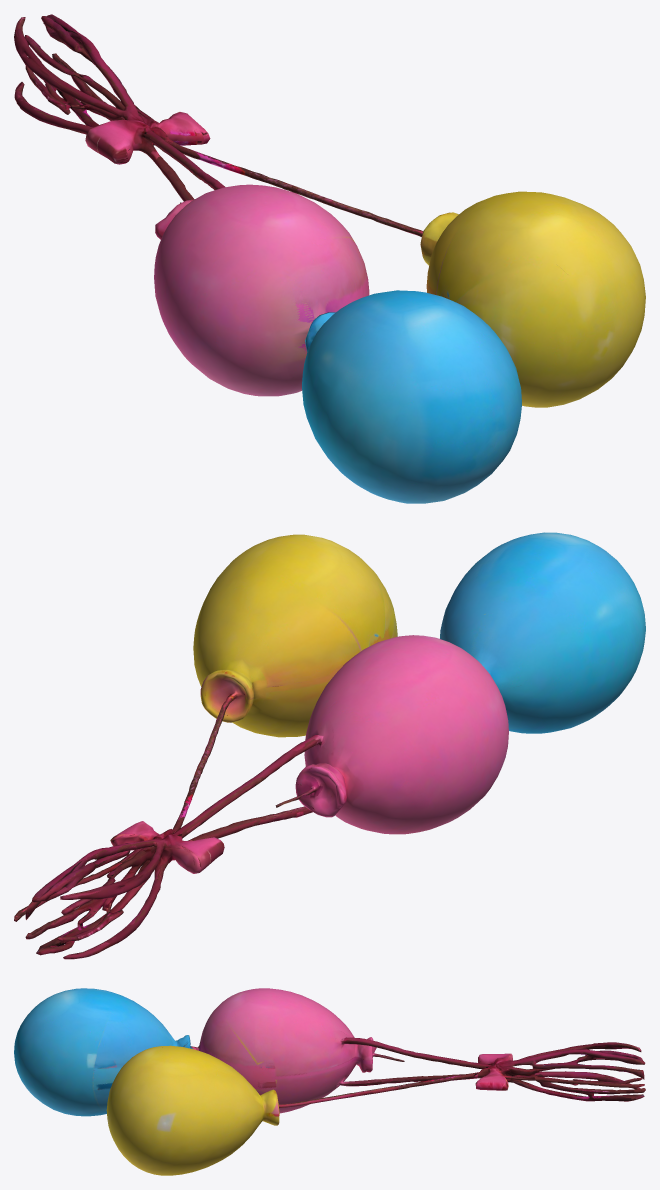
The model's file is Helio.fbx.
3 views of the same model, one above another, from view 1: azimuth 30°, elevation 25°; view 2: azimuth 150°, elevation 25°; view 3: azimuth 270°, elevation 25° (orthographic). The views are drawn at different scales.
Visible parts, largest first — view 1: Mesh_0.018; view 2: Mesh_0.018; view 3: Mesh_0.018.
Part boxes in pixels (<box>): Mesh_0.018: <box>14,14,645,503</box>; Mesh_0.018: <box>14,532,645,959</box>; Mesh_0.018: <box>14,988,645,1175</box>.
Bounding box in the file's own units: 0.2119 × 0.1032 × 0.5002.
Materials: 1 (1 with a texture image).
